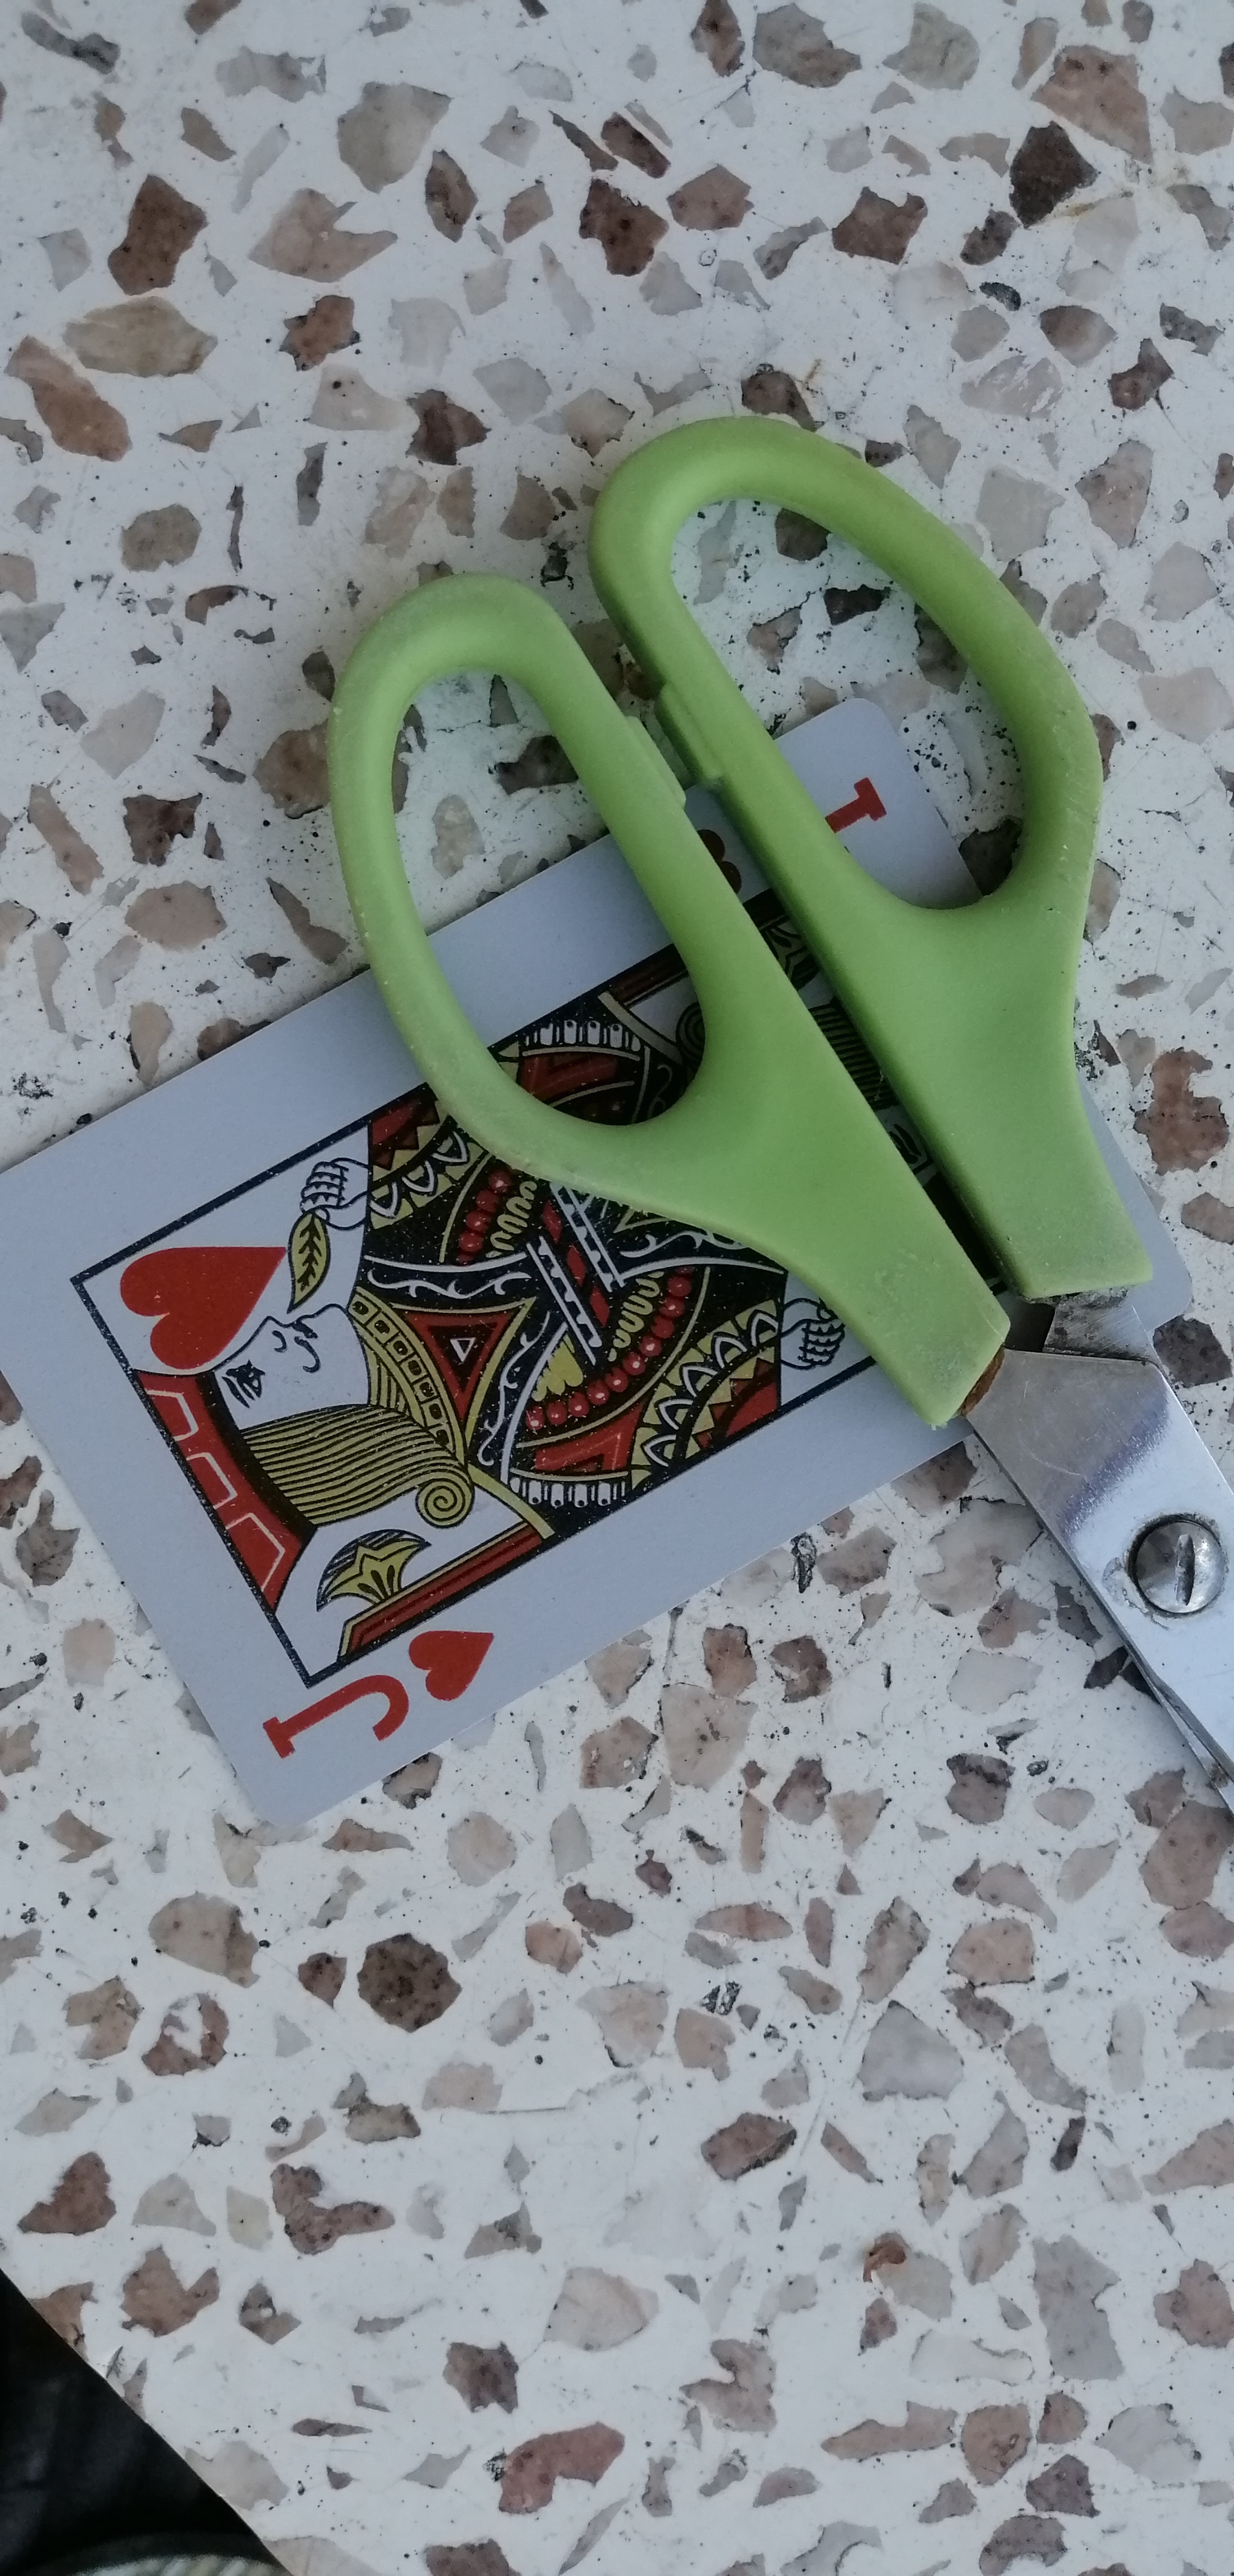jack: (3, 915, 1011, 1848)
